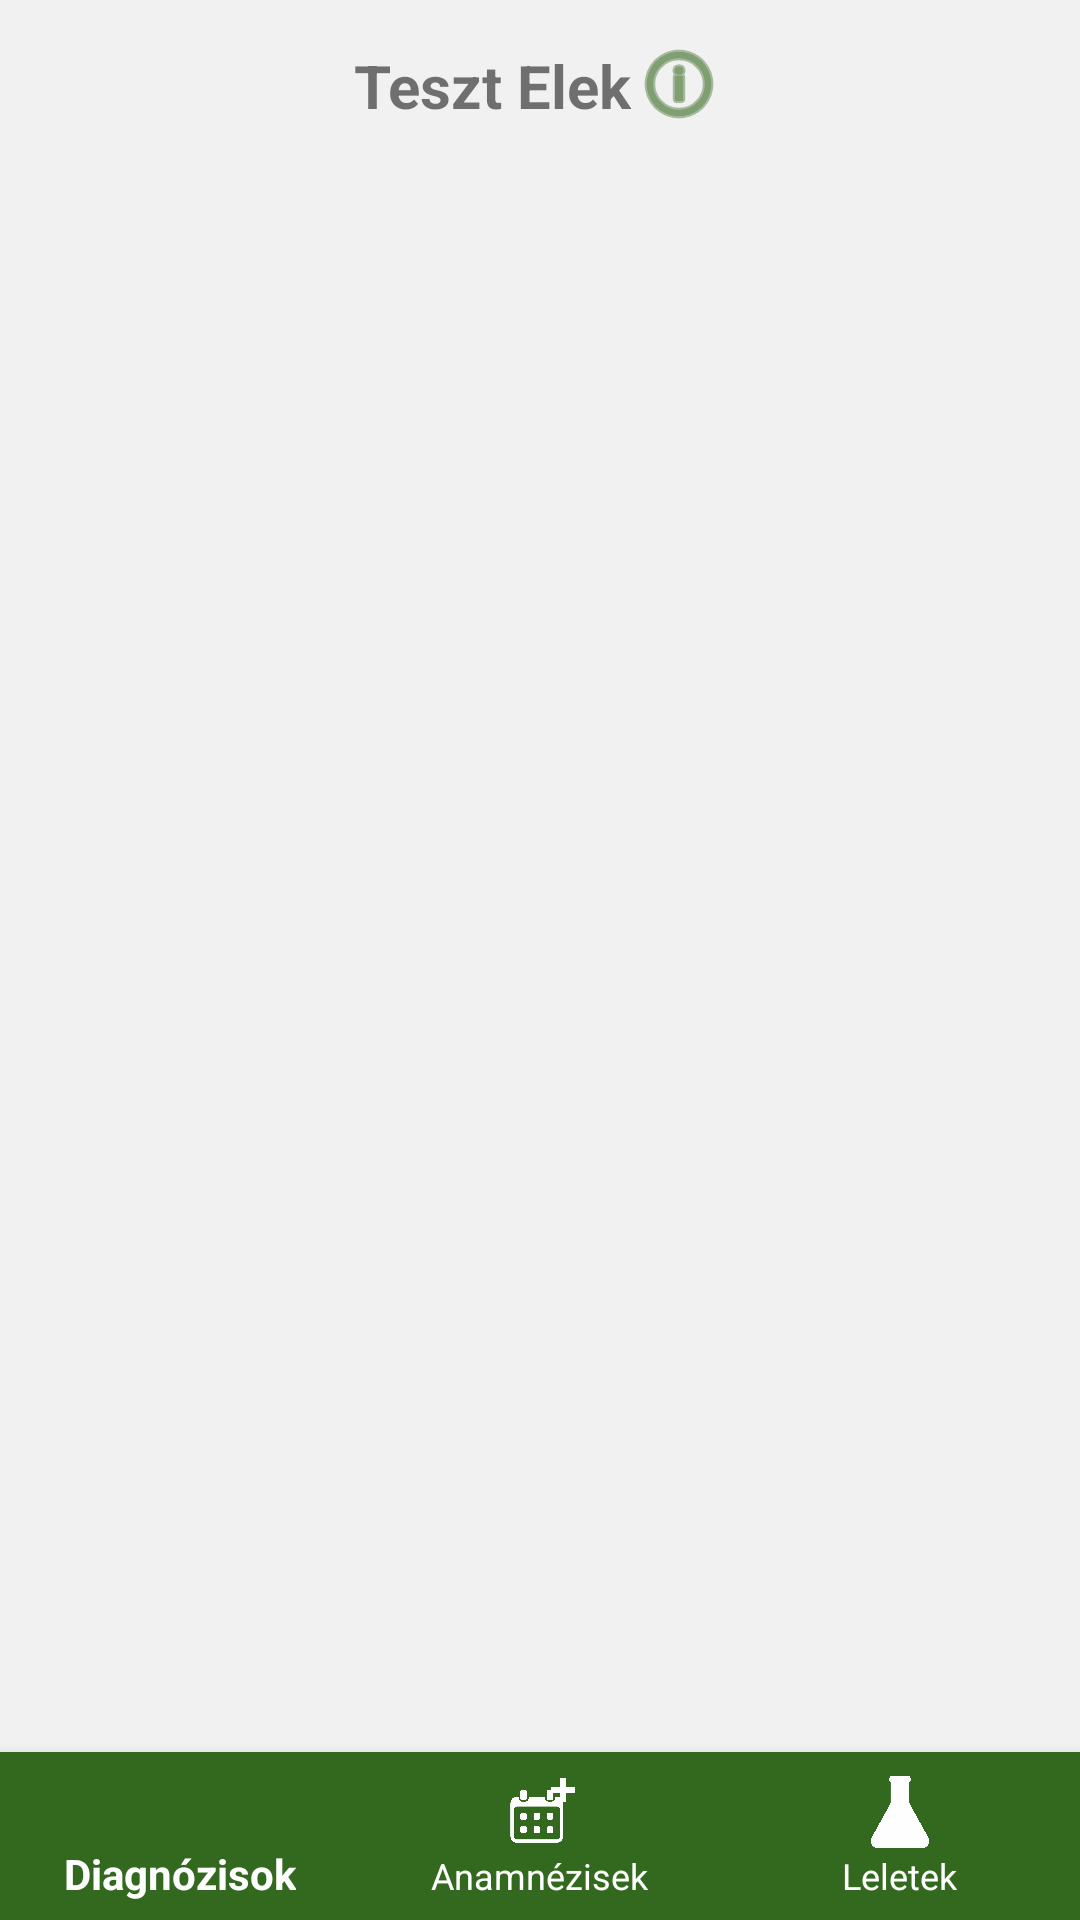

Screen size 1080*1920. Icon name, then its box in pixels as (x1, y1, x2, y2):
info details: (644, 50, 714, 119)
